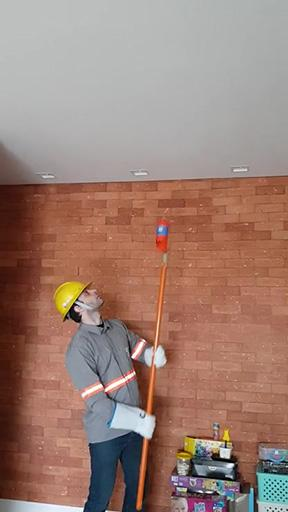Detector_Tensao_Contato: (154, 205, 172, 256)
Vara_Manobra: (135, 253, 169, 511)
